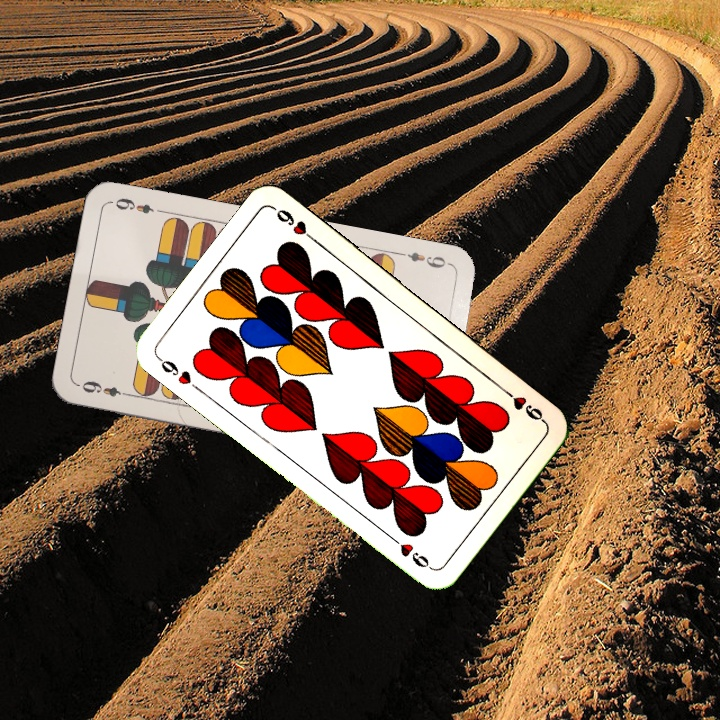E9: (395, 247, 453, 271), (78, 376, 134, 399)
H9: (497, 384, 547, 425), (154, 353, 194, 388)
